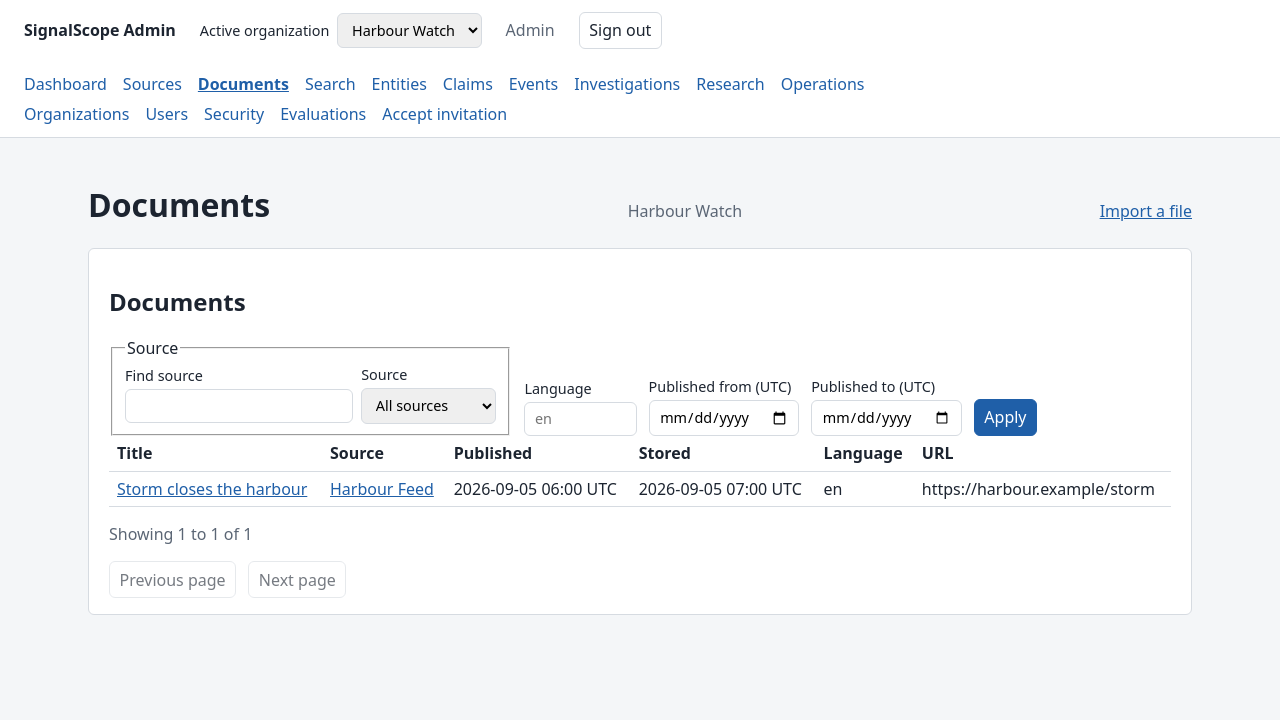
documents workspace › never shows the old organization's rows after switching
Expected: the link "Storm closes the harbour" is shown, [117,478,307,500]
Select "River Desk" in the dropdown labelled "Active organization" at [410, 30], box [337,12,482,48]
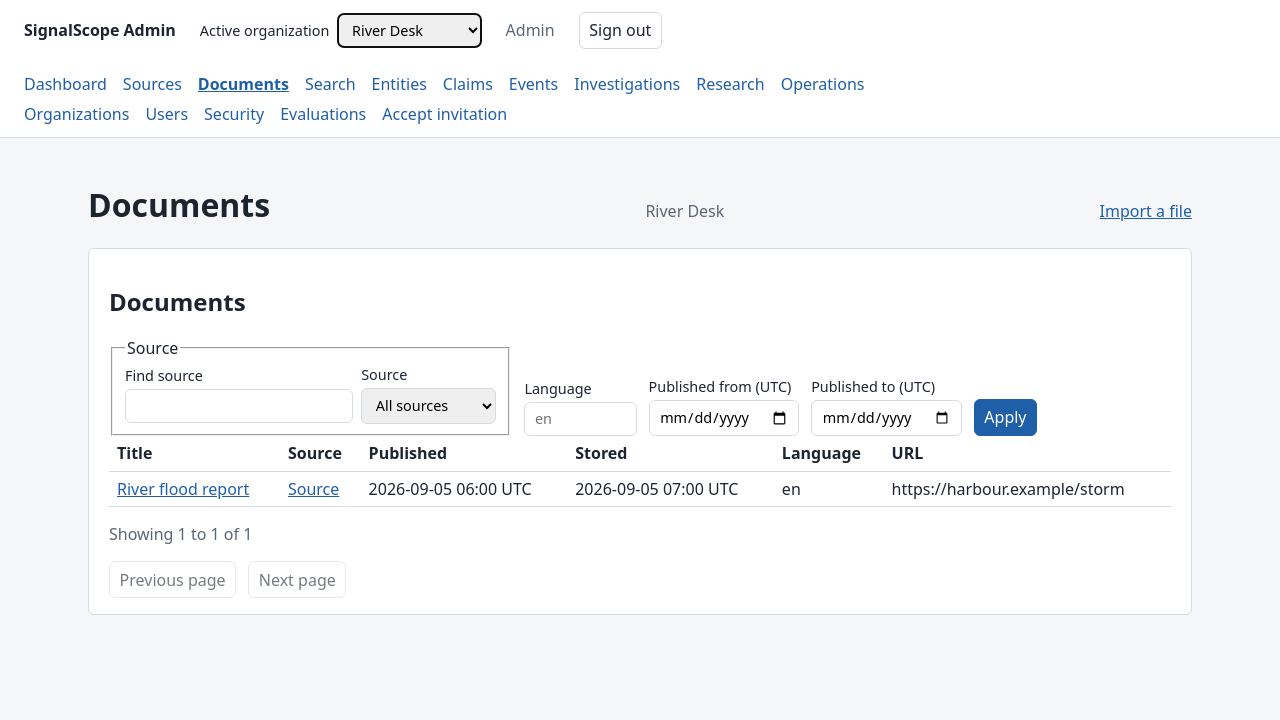
Result: the link "River flood report" is shown at [117,478,249,500]
Result: the link "Storm closes the harbour" is gone
